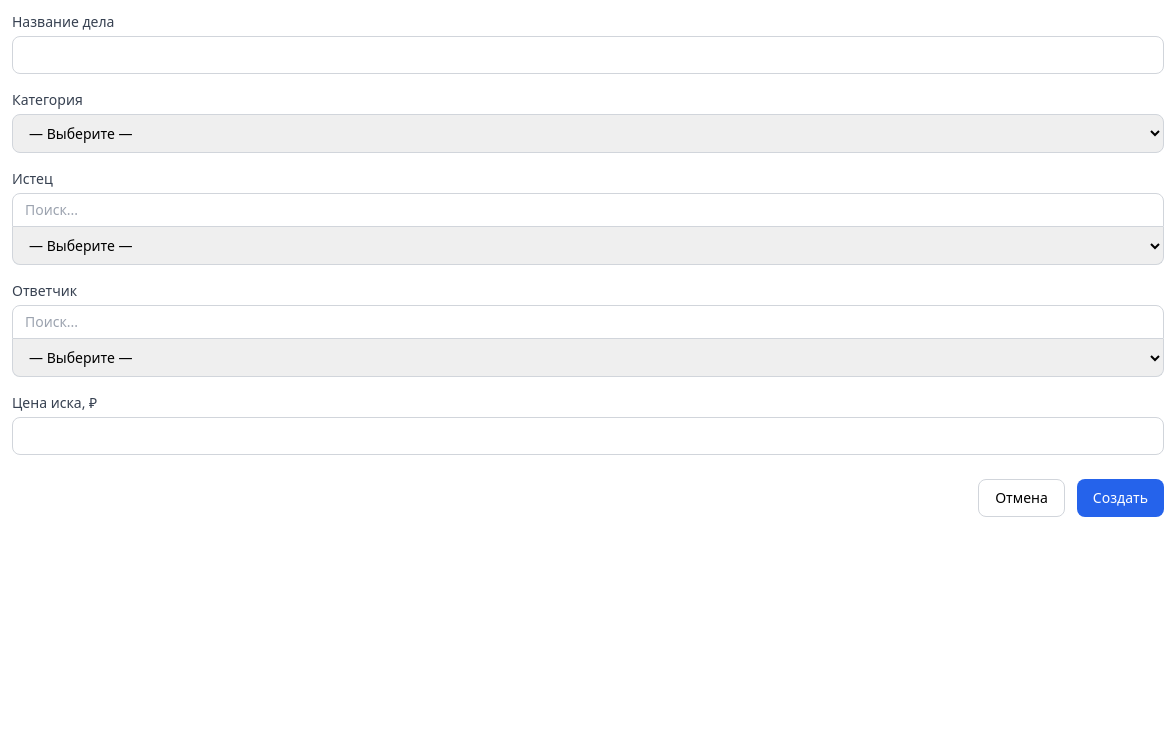
CaseForm › validates required category
The image size is (1176, 732).
Type "Тестовое дело" into the field labelled "Название дела" at (588, 55), box [12,36,1164,74]
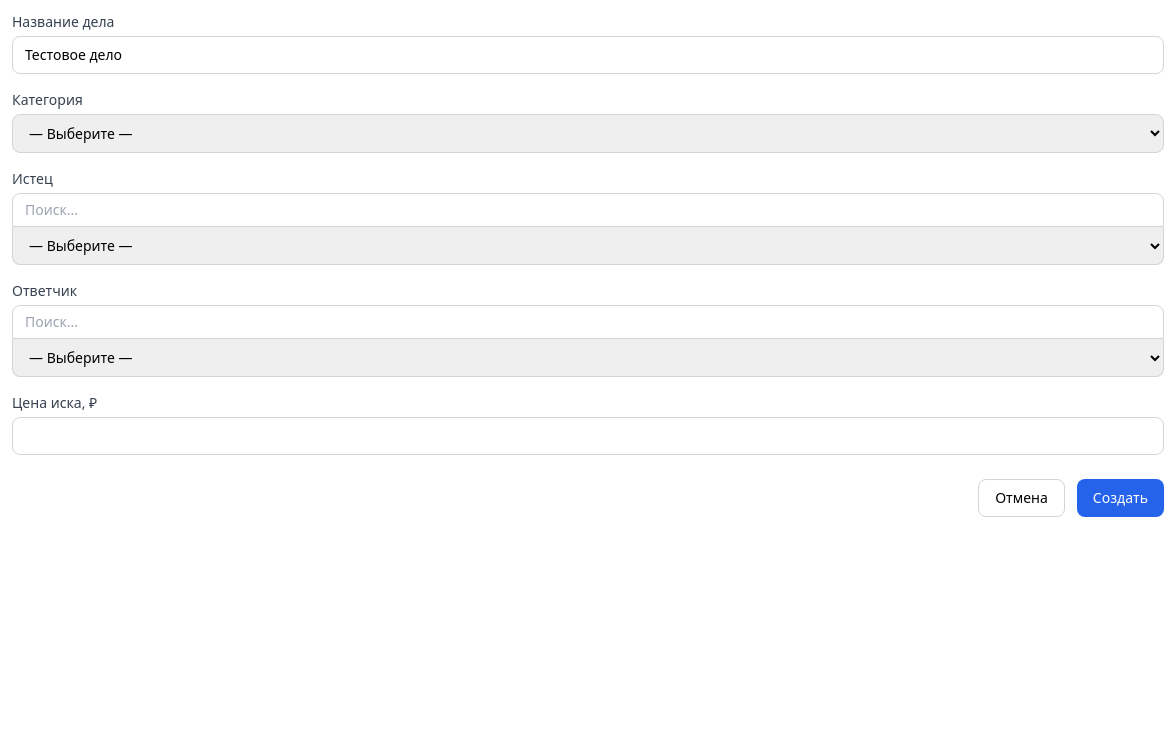
Click the button "Создать" at (1120, 498), box [1077,479,1164,517]
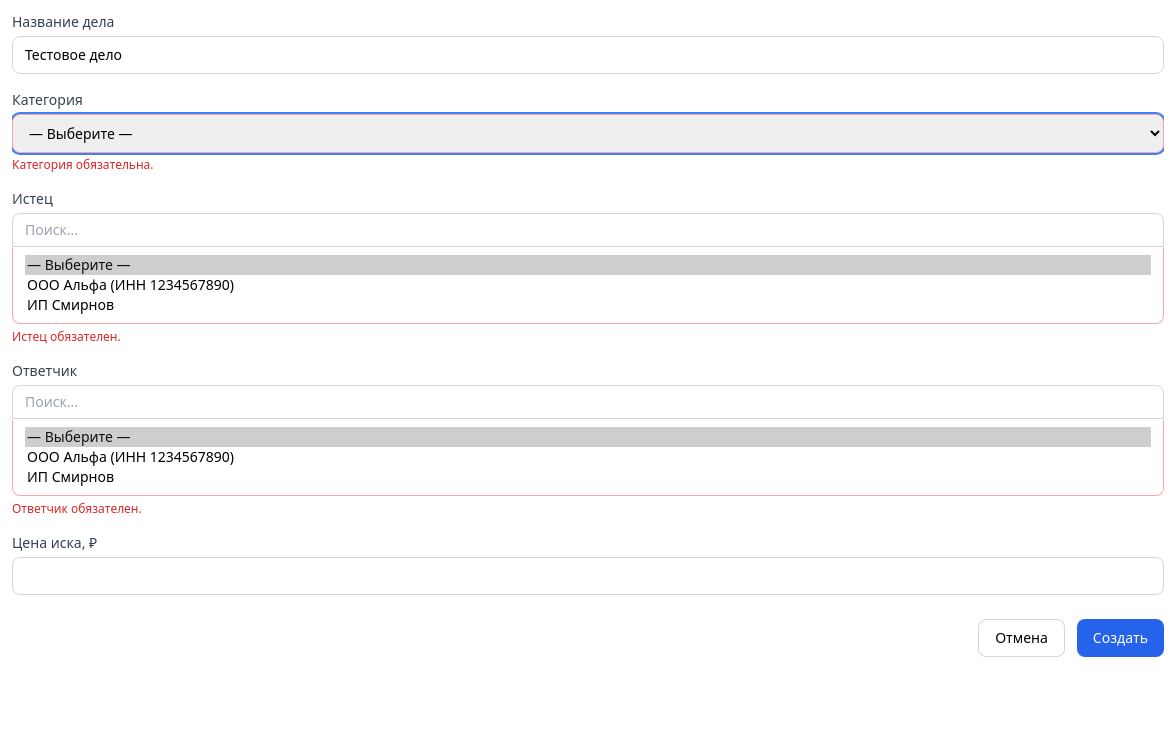
Result: the text "Категория обязательна." is shown at [12,156,154,173]
